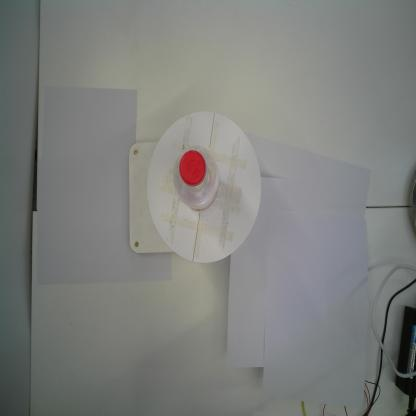Drink: (172, 143, 220, 211)
